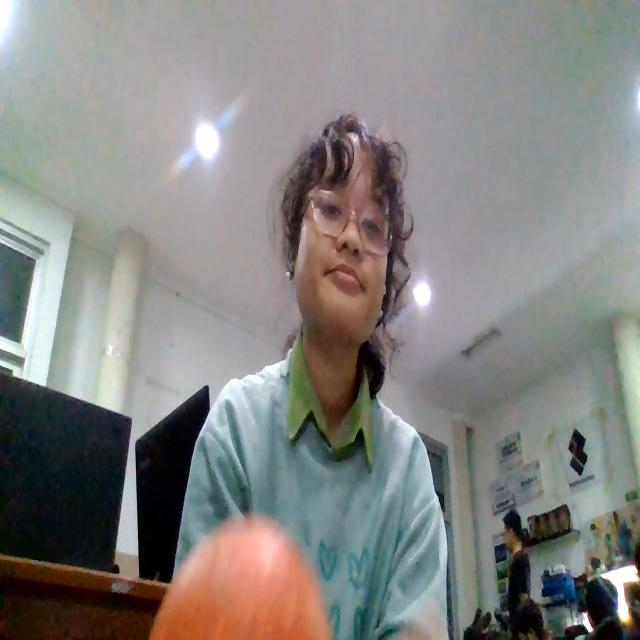ball: (149, 513, 333, 639)
